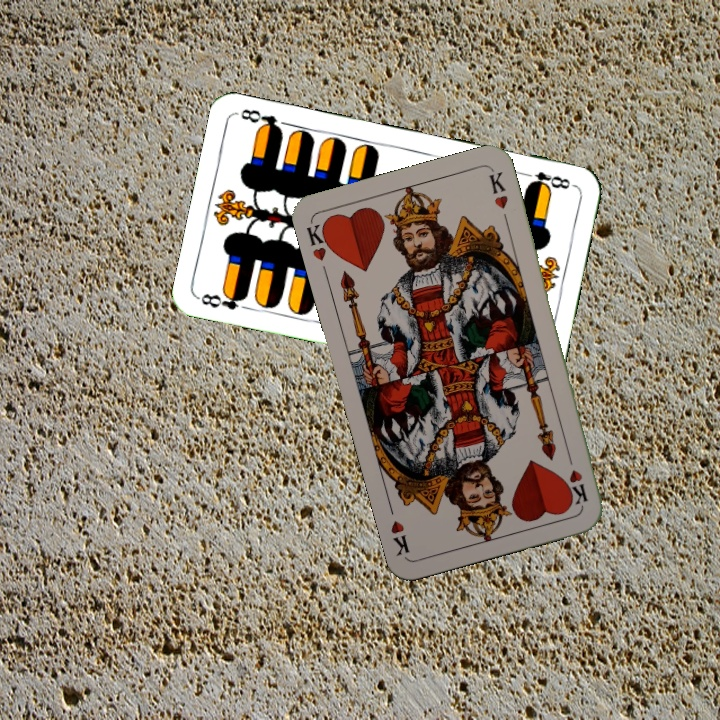E8: (518, 167, 576, 193), (195, 287, 250, 313)
HK: (302, 217, 336, 264), (563, 449, 590, 507)
